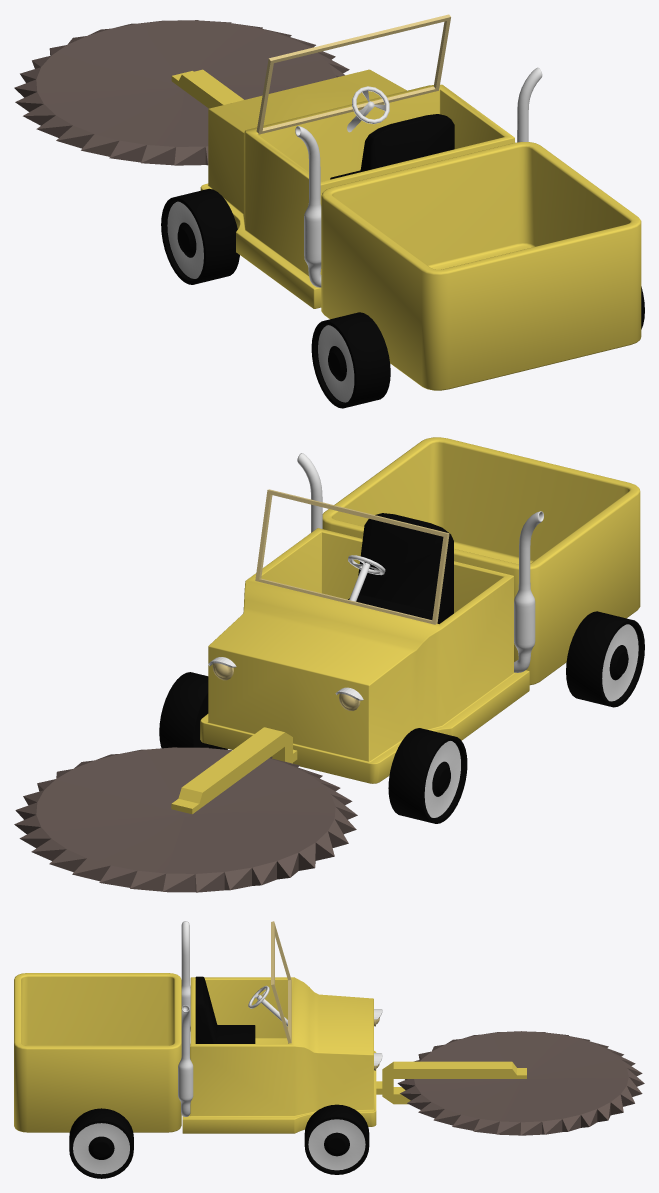
Rendered from StoneminorCar.fbx.
3 views of the same model, one above another, from view 1: azimuth 30°, elevation 25°; view 2: azimuth 150°, elevation 25°; view 3: azimuth 270°, elevation 25° (orthographic). The views are drawn at different scales.
Visible parts, largest first — view 1: Car, Cutter, back_tyer, Front tyer, Car.001; view 2: Car, Cutter, Front tyer, back_tyer, Car.001; view 3: Car, Cutter, back_tyer, Front tyer, Car.001, Car.002.
Boxes of the visible parts, x1=… form: Car: x1=200, y1=14, x2=641, y2=390; Cutter: x1=14, y1=20, x2=349, y2=165; back_tyer: x1=311, y1=286, x2=644, y2=408; Front tyer: x1=161, y1=188, x2=239, y2=284; Car.001: x1=182, y1=69, x2=243, y2=108; Car: x1=200, y1=437, x2=640, y2=783; Cutter: x1=14, y1=747, x2=357, y2=892; Front tyer: x1=159, y1=672, x2=467, y2=823; back_tyer: x1=566, y1=611, x2=644, y2=707; Car.001: x1=182, y1=729, x2=282, y2=806; Car: x1=14, y1=921, x2=382, y2=1133; Cutter: x1=397, y1=1031, x2=644, y2=1135; back_tyer: x1=69, y1=1108, x2=133, y2=1178; Front tyer: x1=304, y1=1104, x2=369, y2=1174; Car.001: x1=397, y1=1061, x2=512, y2=1104; Car.002: x1=376, y1=1061, x2=397, y2=1104.
Size of the model in its own units: 215 by 168 by 547.
